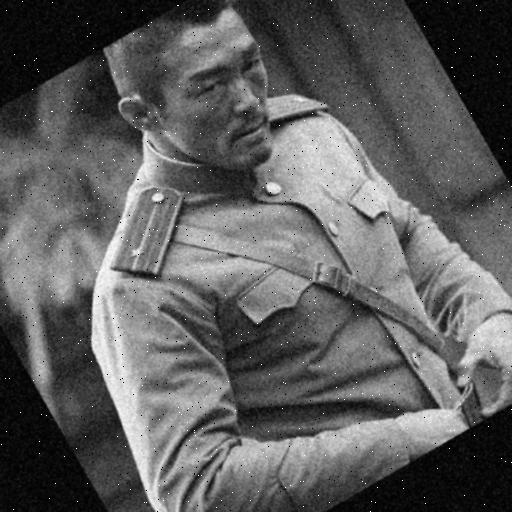north army: (62, 0, 512, 508)
